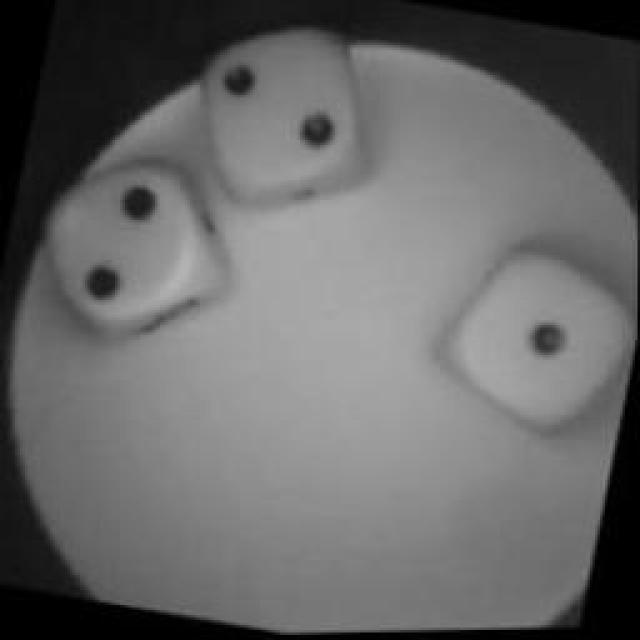dice_1: (425, 228, 637, 458)
dice_2: (21, 139, 261, 366), (179, 7, 396, 225)
